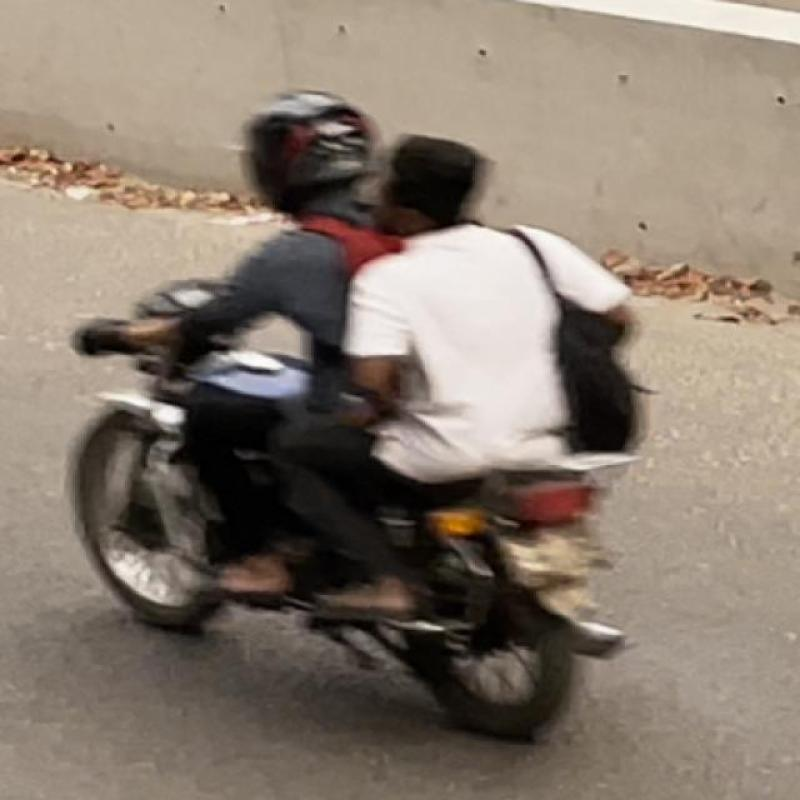nohelmet: (352, 120, 500, 241)
